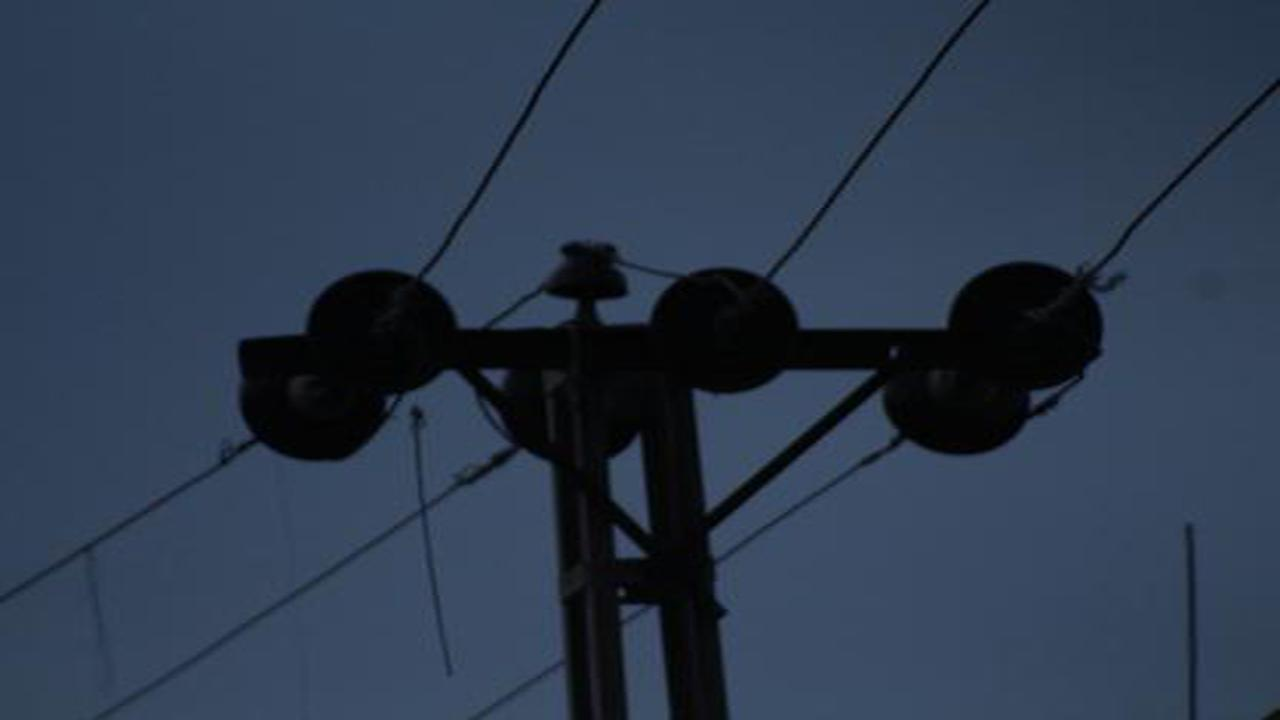insulator_disc: (646, 260, 808, 403), (303, 260, 464, 399), (945, 256, 1113, 386), (879, 350, 1040, 458), (230, 371, 392, 461)
insulator_pin: (540, 232, 634, 312)
